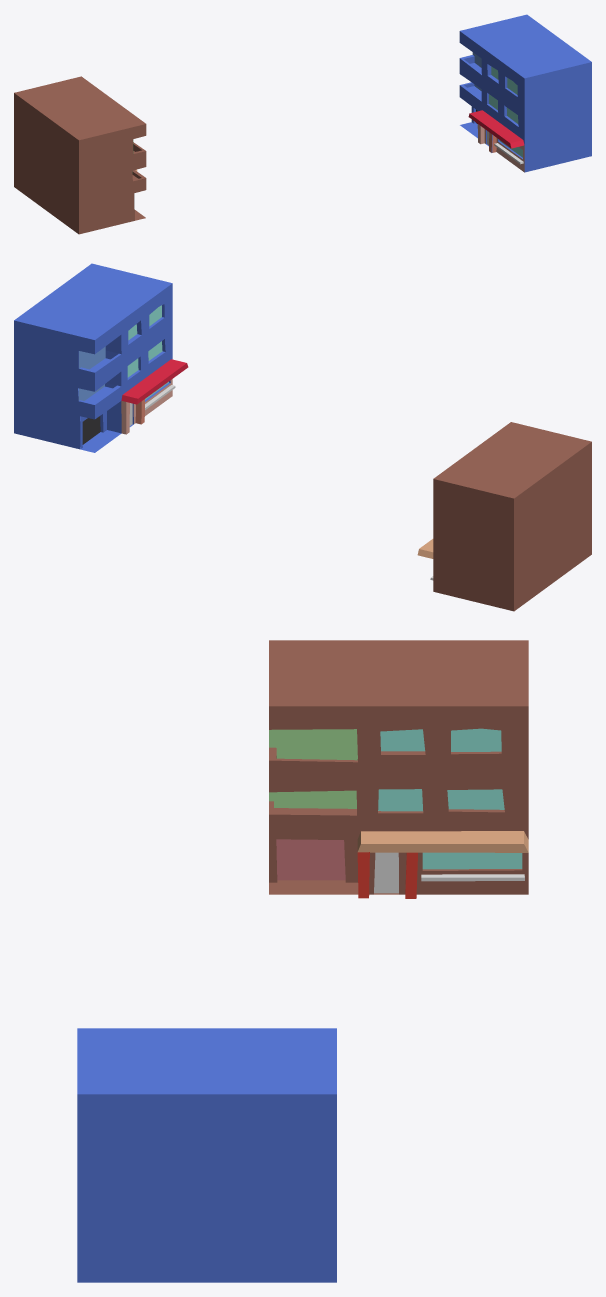
File: casas2.glb
3 views of the same model, one above another, from view 1: azimuth 30°, elevation 25°; view 2: azimuth 150°, elevation 25°; view 3: azimuth 270°, elevation 25° (orthographic). The views are drawn at different scales.
Visible parts, largest first — view 1: edicio 3, edicio 3.001; view 2: edicio 3, edicio 3.001; view 3: edicio 3.001, edicio 3.
Boxes of the visible parts, left/top/right/bottom form: edicio 3: left=459, top=14, right=591, bottom=172; edicio 3.001: left=14, top=76, right=146, bottom=234; edicio 3: left=14, top=263, right=188, bottom=452; edicio 3.001: left=417, top=422, right=591, bottom=611; edicio 3.001: left=269, top=640, right=528, bottom=898; edicio 3: left=77, top=1028, right=336, bottom=1282.
Size of the model in its own units: 41.37 by 8 by 17.39.
